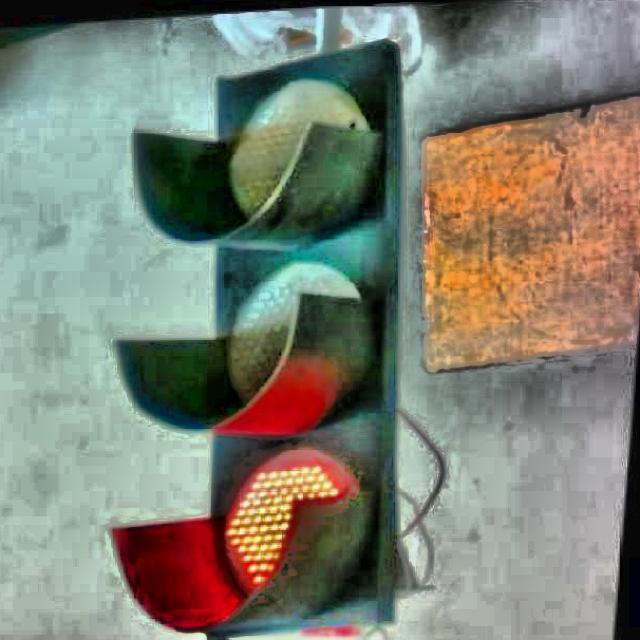red: (179, 46, 392, 614)
